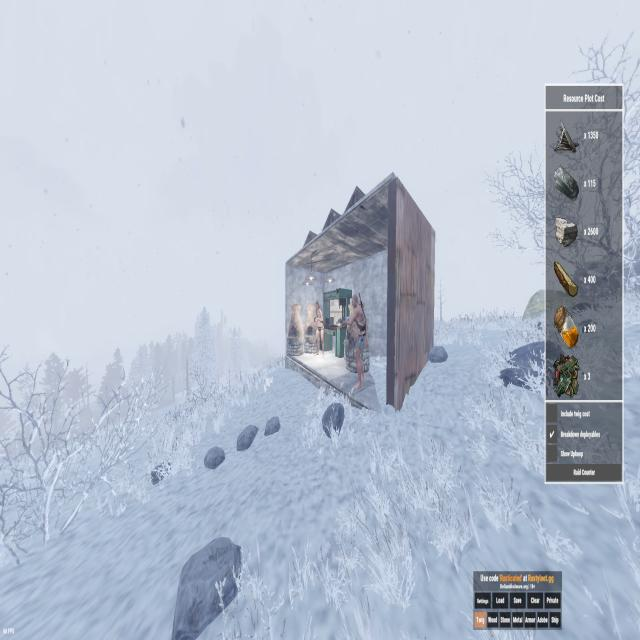Player: (350, 294, 369, 392), (313, 299, 325, 359)
